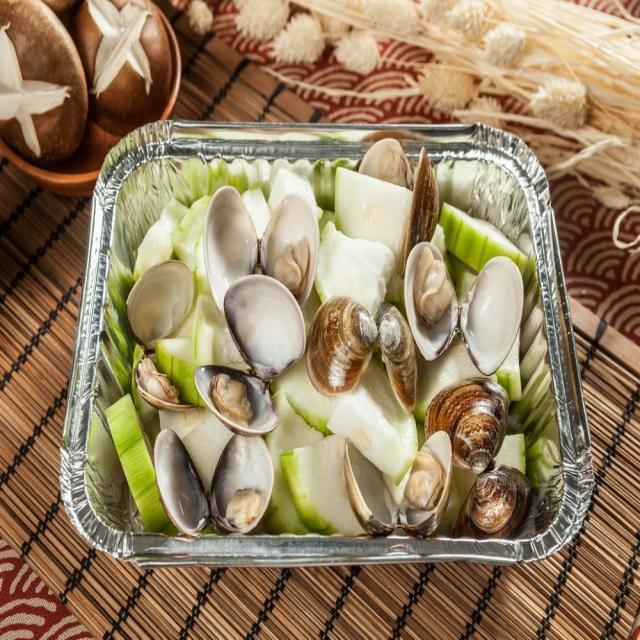Wet: (120, 142, 528, 534)
